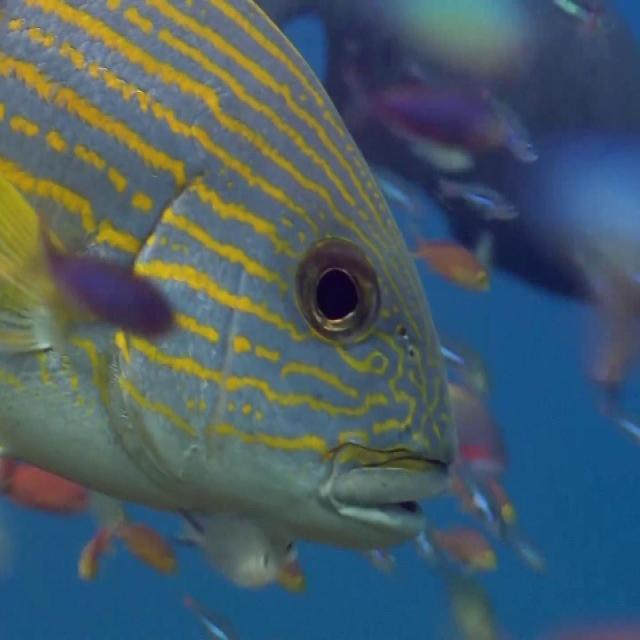fish: (0, 0, 457, 549), (341, 64, 514, 152), (178, 517, 274, 583), (411, 232, 488, 290), (108, 510, 179, 571), (436, 175, 518, 220)
